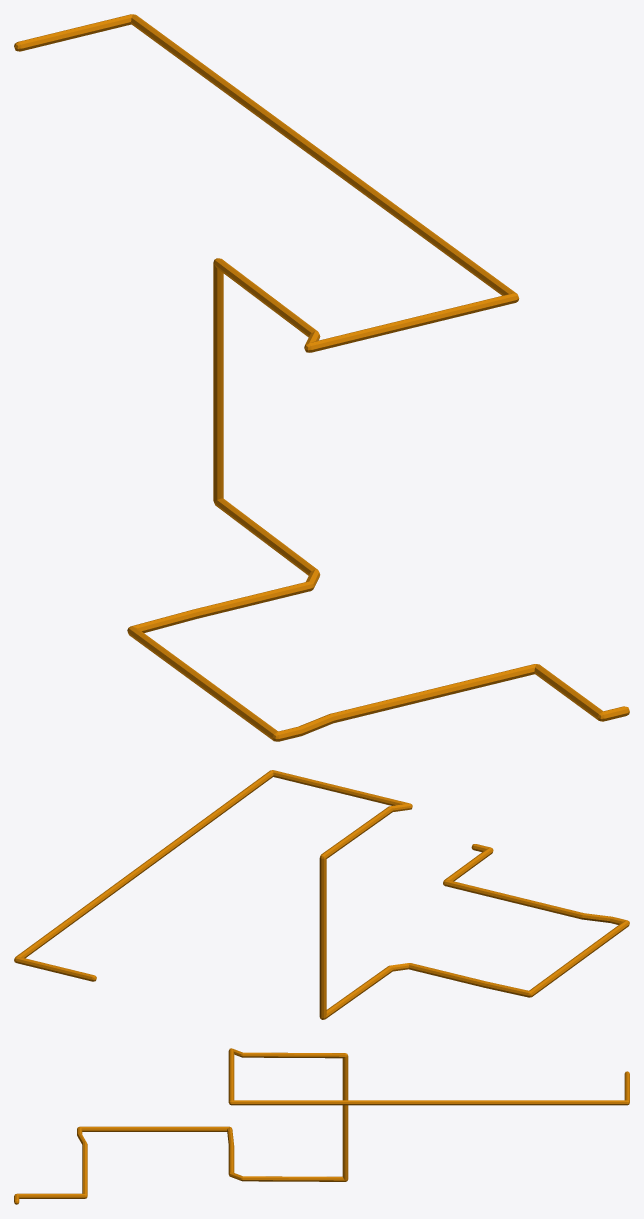
3 renders of one model, top to bottom at view 1: azimuth 30°, elevation 25°; view 2: azimuth 150°, elevation 25°; view 3: azimuth 270°, elevation 25°, orthographic. The views are drawn at different scales.
Bounding box in the file's own units: 862 × 520 × 2257.
